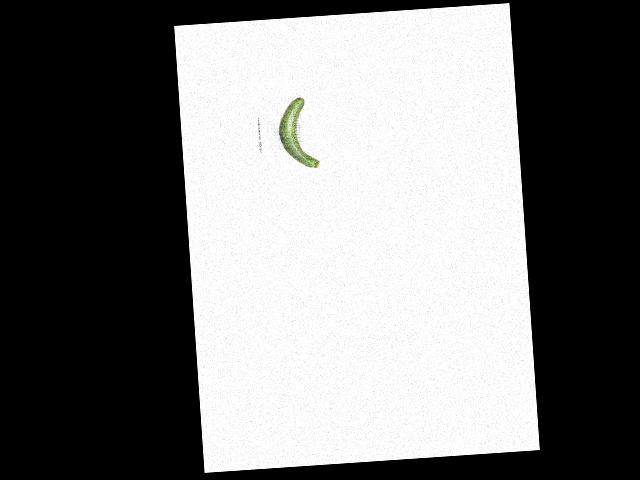cucumber: (277, 96, 320, 170)
